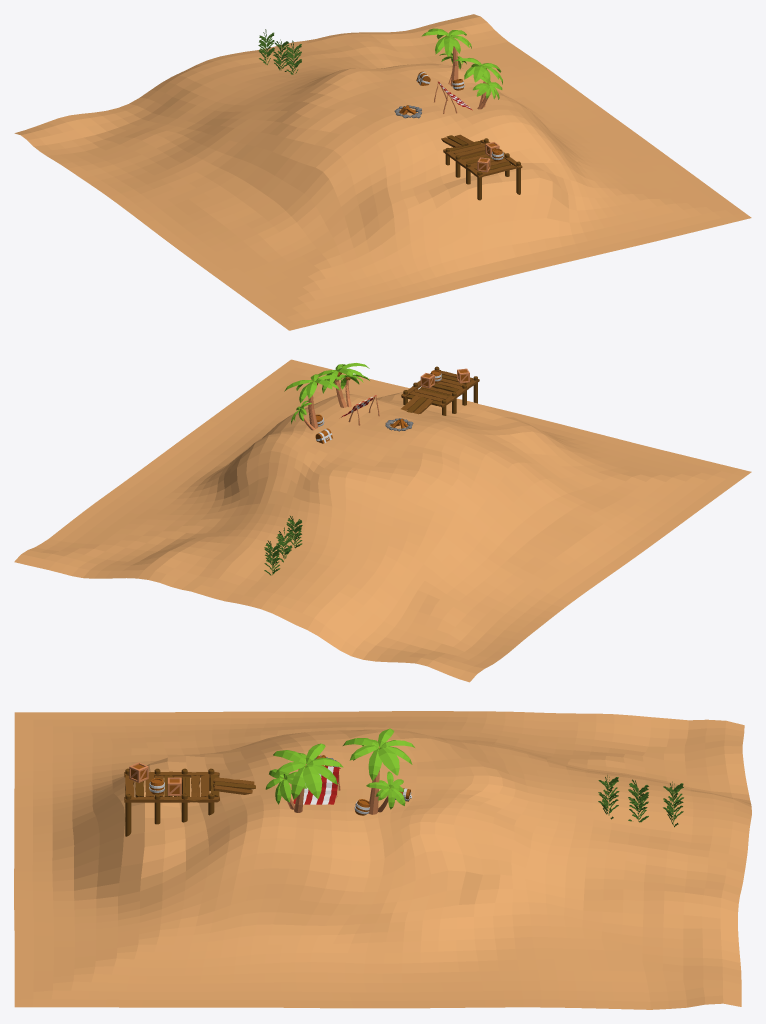
File: island.glb
3 renders of one model, top to bottom at view 1: azimuth 30°, elevation 25°; view 2: azimuth 150°, elevation 25°; view 3: azimuth 270°, elevation 25°, orthographic. The views are drawn at different scales.
Parts seen in each view (by area): view 1: Island, Tree, Tree.001; view 2: Island, Tree, Tree.001; view 3: Island, Tree.001, Tree, Tree.003, Tarp, Tree.002, Kelp.002, Cube.012.
Boxes of the visible parts, x1,y1,x2,y2 form: Island: (14,14,751,330); Tree: (421,28,471,86); Tree.001: (454,58,502,107); Island: (14,359,751,682); Tree: (284,374,343,428); Tree.001: (318,363,369,407); Island: (14,711,751,1009); Tree.001: (273,743,343,812); Tree: (343,728,414,814); Tree.003: (366,771,405,812); Tarp: (293,766,339,804); Tree.002: (265,769,306,809); Kelp.002: (628,779,648,822); Cube.012: (124,796,219,802).
Size of the model in its own units: 10.97 by 3.05 by 11.58.
